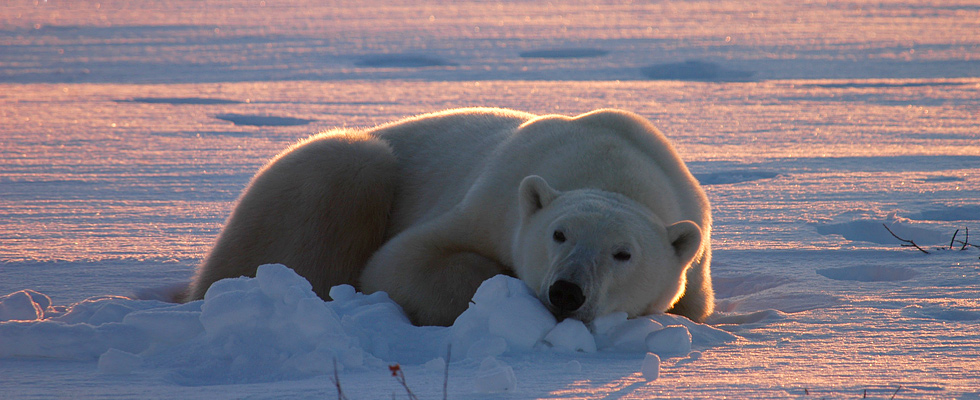Polar Bear: (196, 103, 758, 357)
